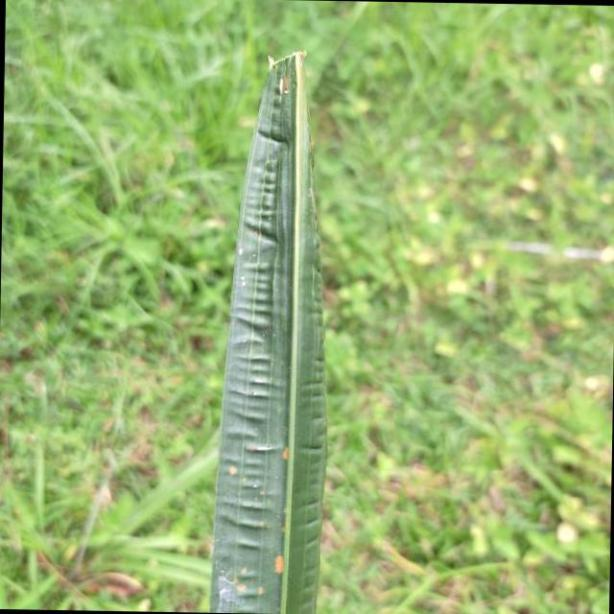Boron: (206, 46, 329, 614)
